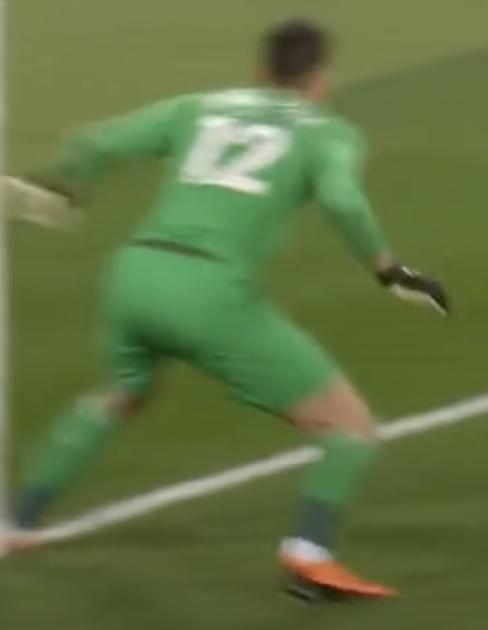goalkeeper: (0, 12, 473, 630)
